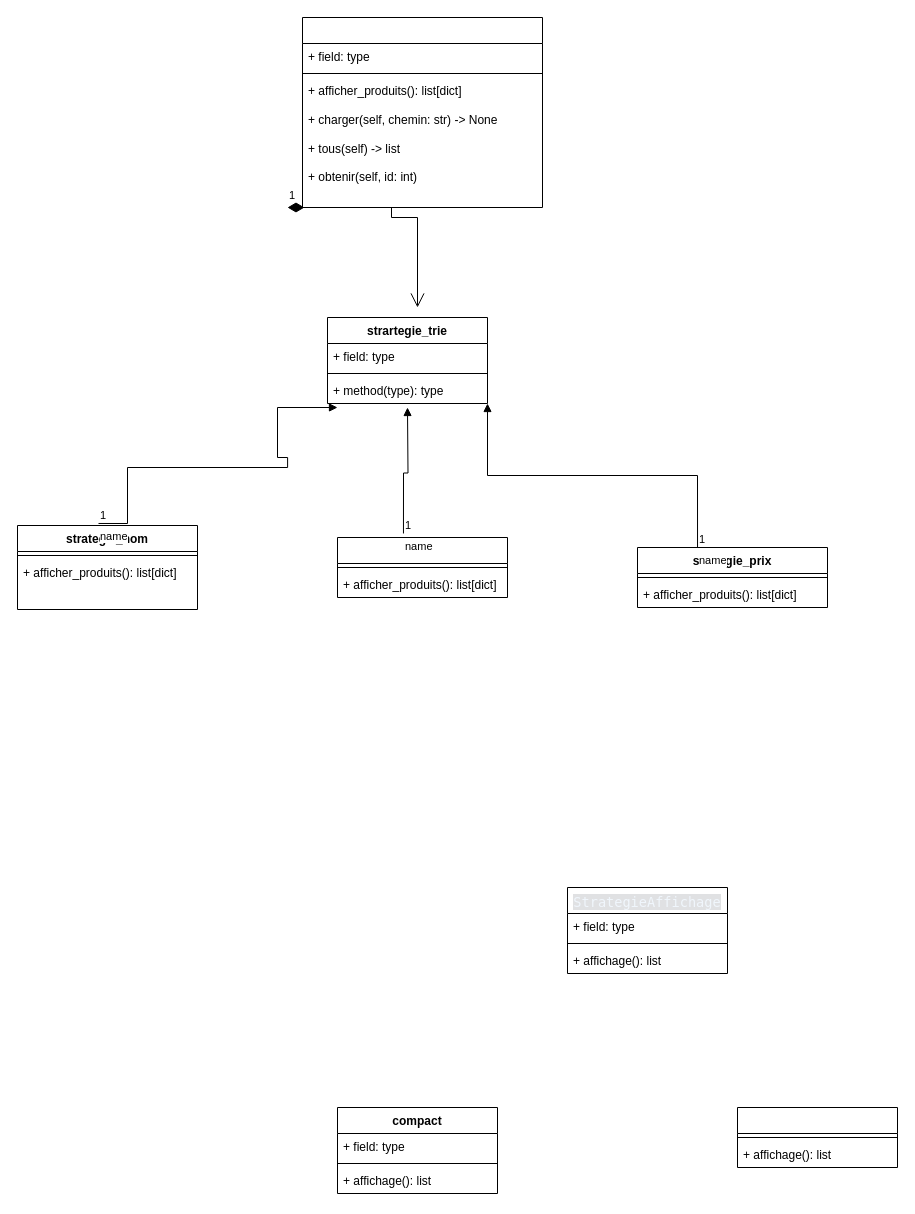
The diagram is 915 pixels wide and 1214 high, and some of its shapes have lost their labels. Each missing label, with the box of its shape:
catalogue: (302, 16, 542, 208)
detaillé: (736, 1106, 898, 1168)
strategie_popularite: (336, 536, 508, 598)
